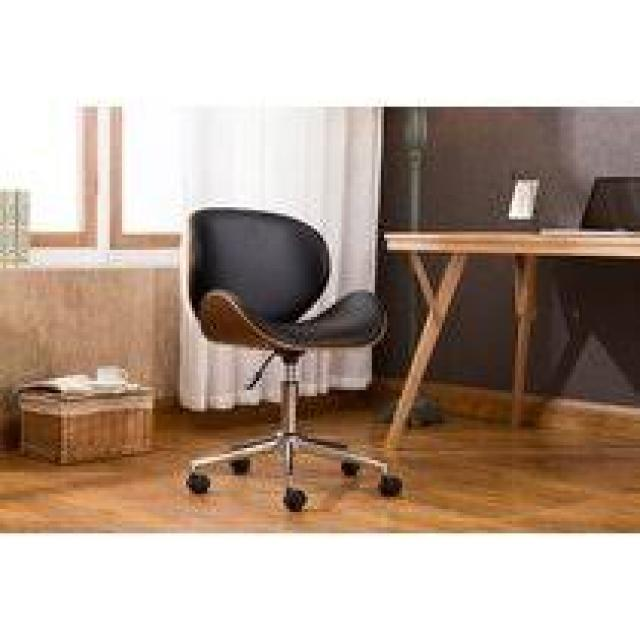chair: (85, 164, 437, 551)
